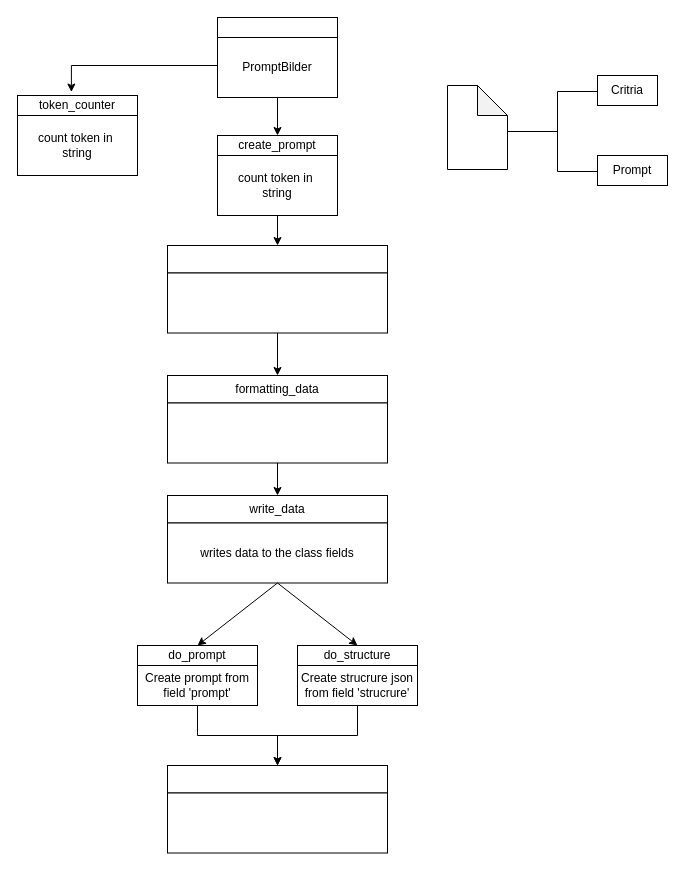
This 685x871 diagram has some shape labels left out. Here are the shapes that lost their labels. From the top down, the box of each, then its label:
(216, 16, 338, 38): Class
(446, 84, 508, 170): File Json
(166, 244, 388, 273): get_data_json
(166, 272, 388, 333): get data from the json file
(166, 402, 388, 463): writes data to class fields
(166, 764, 388, 793): connect_final_prompt
(166, 792, 388, 853): assembles the parts of the prompt to build it fully.
